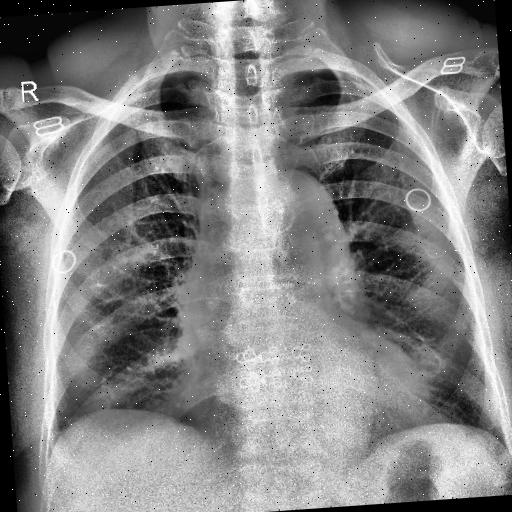0- Aortic enlargement: (253, 166, 358, 318), (248, 166, 354, 298), (258, 165, 350, 265)
3- Cardiomegaly: (177, 347, 441, 463), (182, 362, 438, 456), (180, 356, 446, 442)
